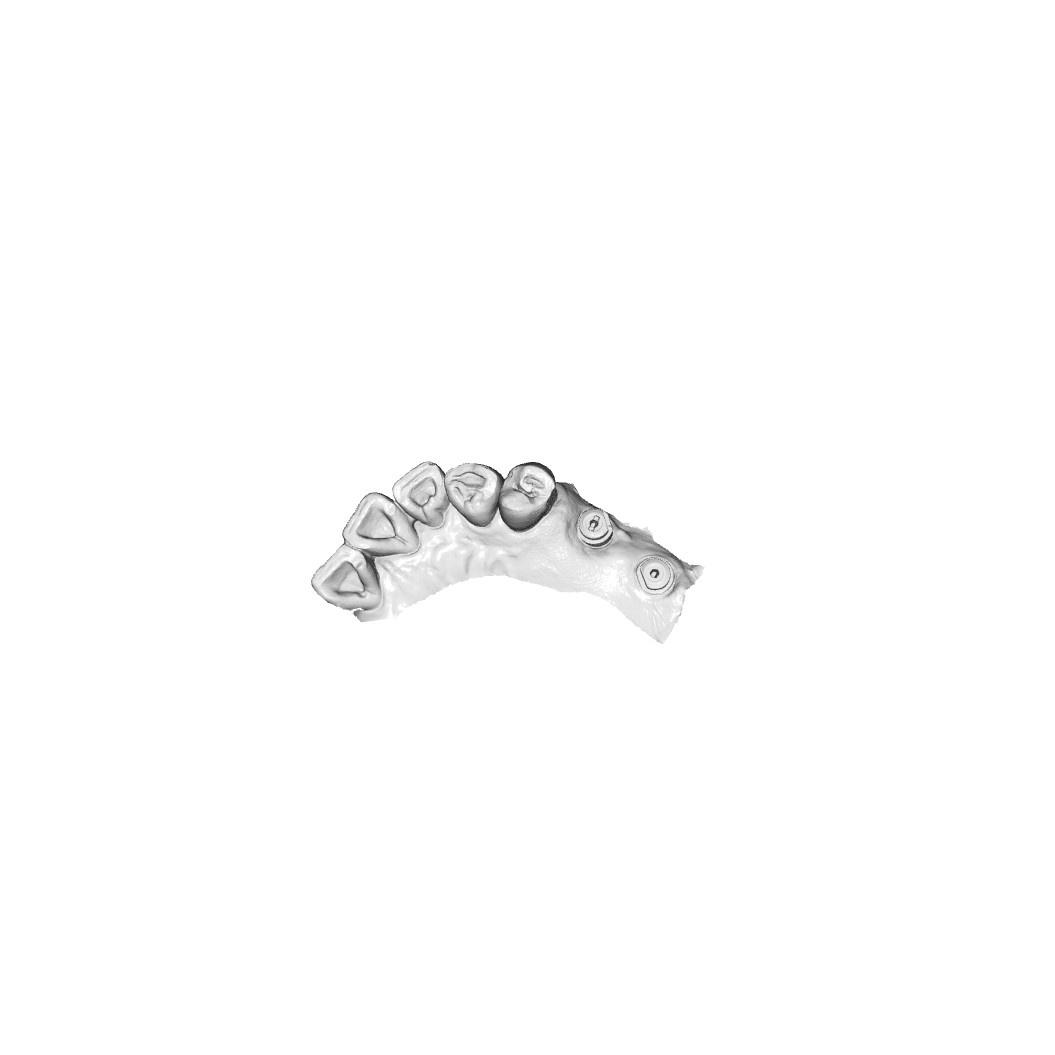canine: (447, 460, 501, 530)
implant: (638, 552, 676, 594)
implant_minus: (577, 505, 615, 549)
incisor: (308, 542, 382, 613), (341, 490, 417, 558), (391, 460, 447, 530)
premolar: (501, 456, 555, 535)
